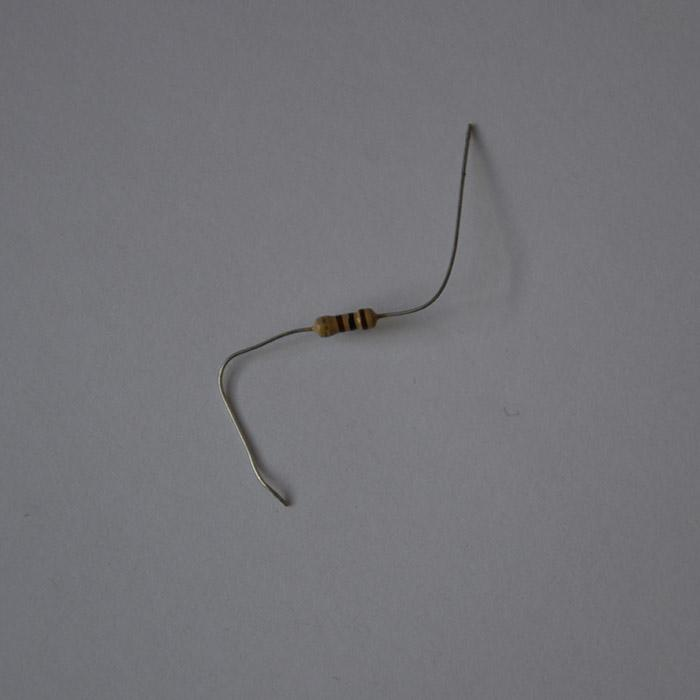resistor: (310, 307, 379, 337)
